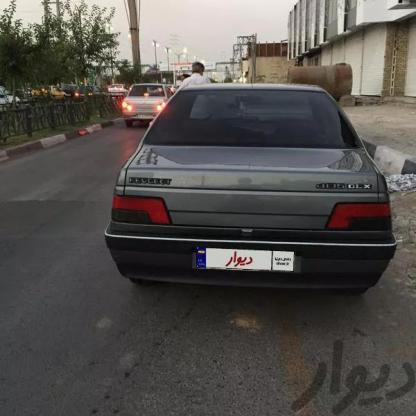Car: (112, 75, 388, 308), (118, 82, 186, 130)
